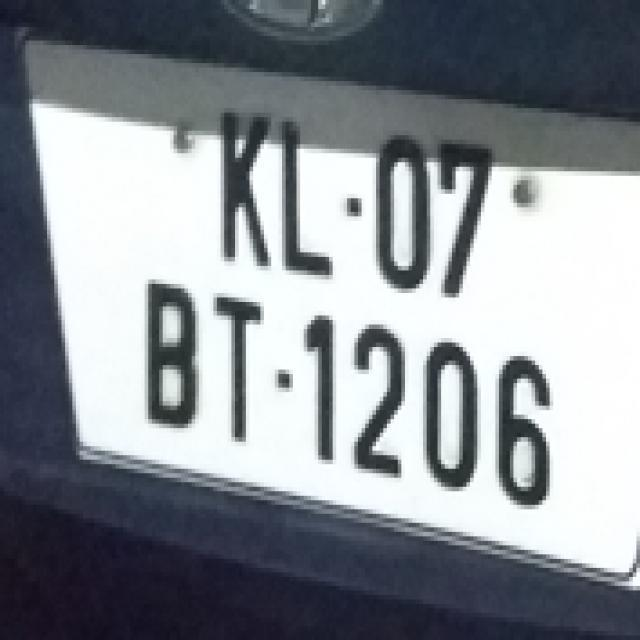0: (414, 337, 492, 511), (368, 123, 436, 294)
1: (300, 317, 343, 469)
6: (490, 334, 562, 514)
7: (430, 128, 502, 304)
B: (138, 270, 204, 430)
K: (208, 98, 281, 280)
L: (276, 121, 340, 299)
T: (207, 286, 270, 460)
